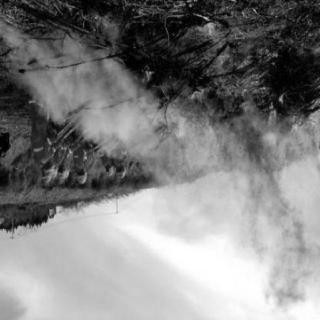Fire: (170, 109, 319, 317)
